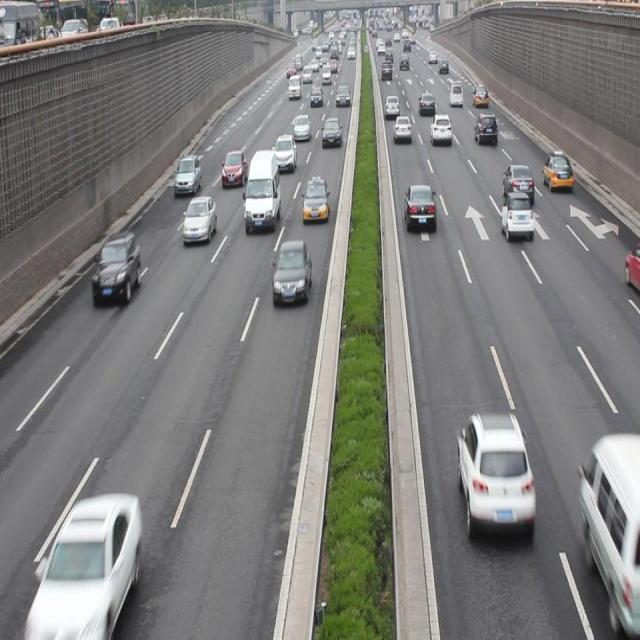car: (30, 495, 140, 640), (456, 411, 534, 535), (92, 229, 140, 302), (272, 239, 312, 306), (404, 181, 436, 234), (183, 194, 216, 244), (499, 191, 532, 239), (302, 176, 330, 222), (502, 163, 534, 202), (541, 151, 573, 190), (174, 154, 202, 194), (272, 134, 297, 171), (221, 148, 246, 184), (474, 112, 498, 145), (430, 112, 452, 144), (321, 116, 342, 148), (393, 114, 413, 144), (292, 113, 312, 143)
truck: (578, 432, 640, 621), (244, 149, 280, 230)
